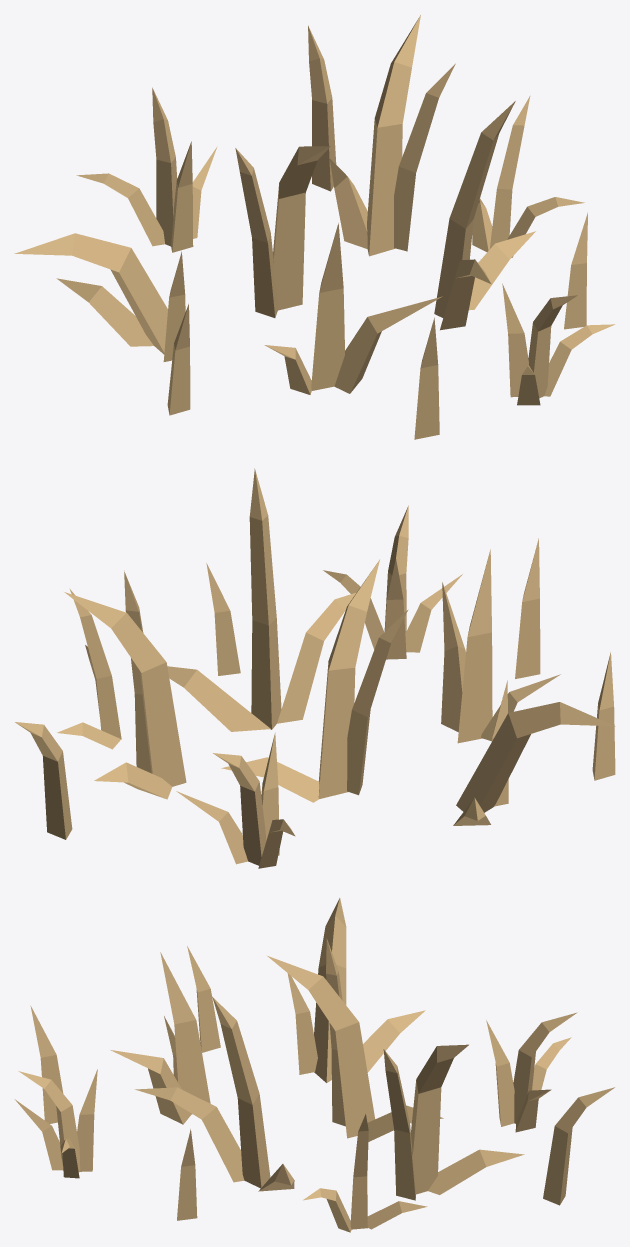
The model's file is Mega_Asset_s_Pack_Cylinder_015.FBX.
3 views of the same model, one above another, from view 1: azimuth 30°, elevation 25°; view 2: azimuth 150°, elevation 25°; view 3: azimuth 270°, elevation 25° (orthographic). The views are drawn at different scales.
Visible parts, largest first — view 1: Mega_Asset_s_Pack_Cylinder_015; view 2: Mega_Asset_s_Pack_Cylinder_015; view 3: Mega_Asset_s_Pack_Cylinder_015.
Boxes of the visible parts, x1=… form: Mega_Asset_s_Pack_Cylinder_015: x1=14, y1=15, x2=615, y2=439; Mega_Asset_s_Pack_Cylinder_015: x1=15, y1=468, x2=615, y2=868; Mega_Asset_s_Pack_Cylinder_015: x1=14, y1=898, x2=614, y2=1232.
Size of what is drawn, in the model's own units: 203 by 213 by 79.38.
